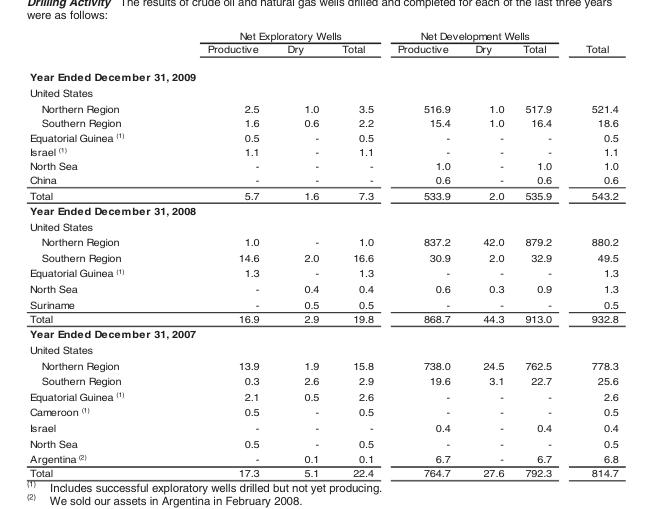table: (28, 29, 617, 478)
table column: (28, 29, 165, 478), (165, 29, 272, 478), (385, 29, 462, 478), (272, 29, 329, 478), (329, 29, 385, 478), (512, 29, 568, 478), (462, 29, 512, 478), (568, 29, 617, 478)
table column header: (28, 29, 617, 62)
table projected row header: (28, 62, 617, 84), (28, 84, 617, 100), (28, 202, 617, 218), (28, 325, 617, 341), (28, 341, 617, 357), (28, 218, 617, 233)
table row: (28, 62, 617, 84), (28, 41, 617, 62), (28, 84, 617, 100), (28, 202, 617, 218), (28, 233, 617, 249), (28, 249, 617, 265), (28, 280, 617, 296), (28, 325, 617, 341), (28, 341, 617, 357), (28, 372, 617, 388), (28, 403, 617, 419), (28, 419, 617, 435), (28, 100, 617, 115), (28, 129, 617, 144), (28, 172, 617, 187), (28, 187, 617, 202), (28, 218, 617, 233), (28, 265, 617, 280), (28, 296, 617, 311), (28, 357, 617, 372), (28, 388, 617, 403), (28, 435, 617, 450), (28, 450, 617, 465), (28, 115, 617, 129), (28, 144, 617, 158), (28, 158, 617, 172), (28, 311, 617, 325), (28, 465, 617, 478), (28, 29, 617, 41)
table spanning cell: (165, 29, 385, 41), (385, 29, 568, 41), (568, 29, 617, 62)
